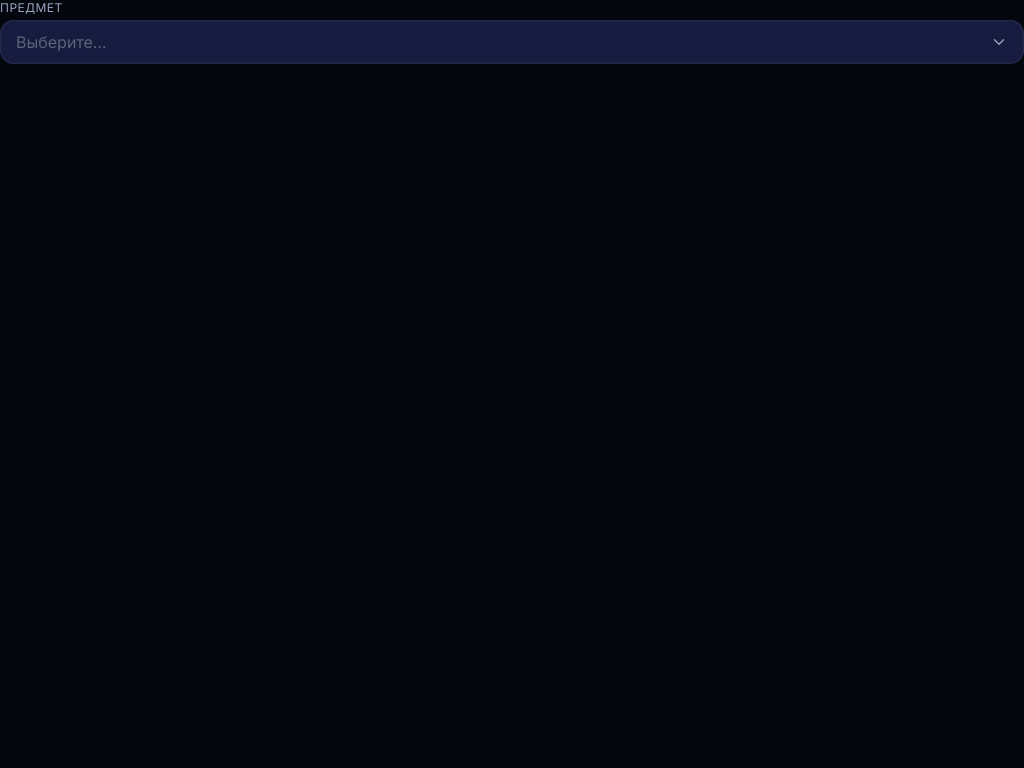
Select › opens the option sheet on tap
Click the button "Выберите…".
click(61, 42)  # box [0,20,1023,64]
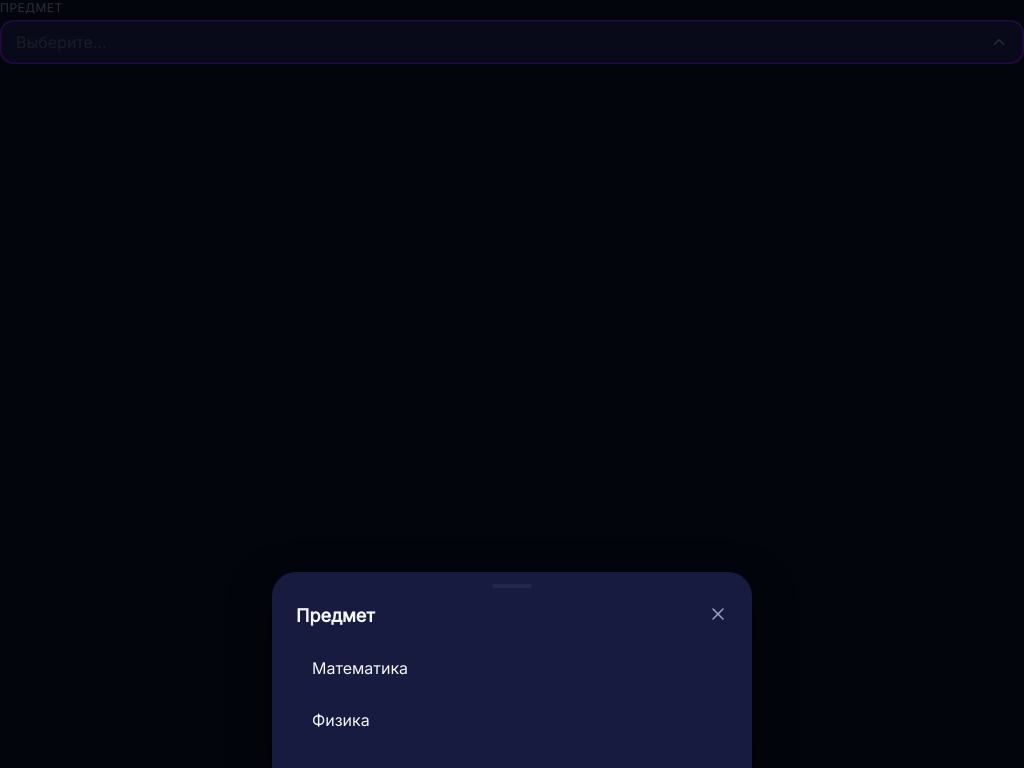
Check: the list is shown, box [296,644,728,744]
